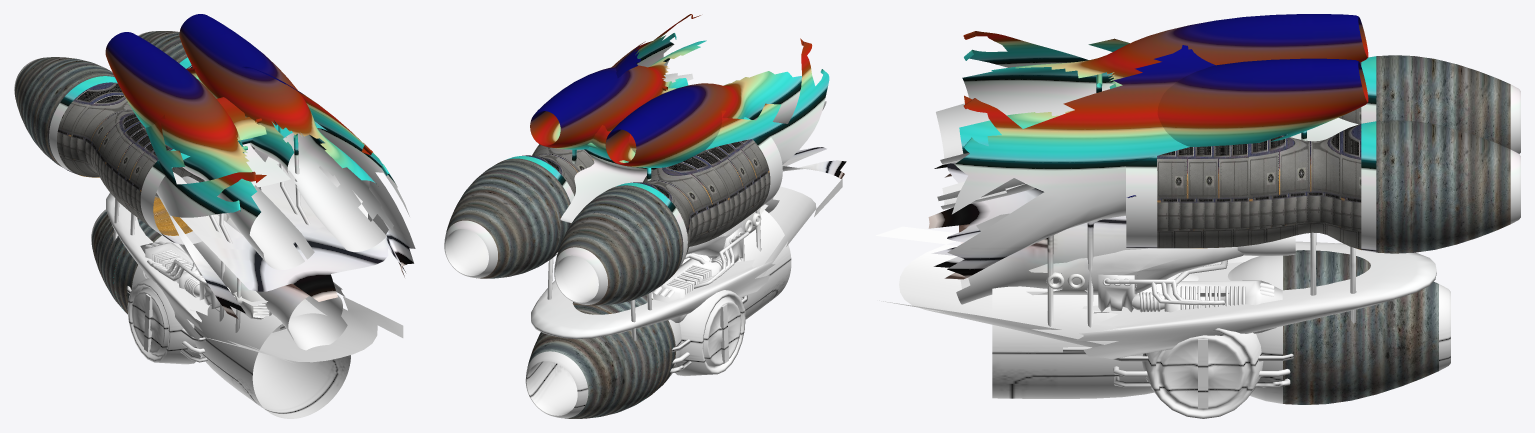
File: BirdPE.glb
The picture shows the model from 3 angles, left to right: view 1: azimuth 30°, elevation 25°; view 2: azimuth 150°, elevation 25°; view 3: azimuth 270°, elevation 25°; orthographic projection. The views are drawn at different scales.
Visible parts, largest first — view 1: ship flying.002; view 2: ship flying.002; view 3: ship flying.002.
Boxes of the visible parts, x1,y1,x2,y2 form: ship flying.002: (14,14,415,418); ship flying.002: (444,14,846,418); ship flying.002: (876,14,1520,418).
Size of the model in its own units: 1.87 by 2.54 by 4.06.
6 materials, 4 textured.
